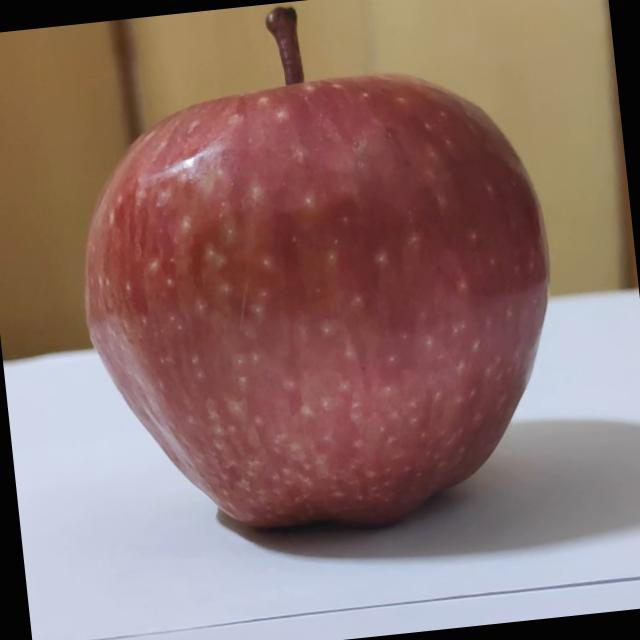apple: (59, 0, 587, 563)
